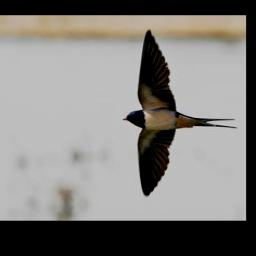Swallow: (121, 26, 238, 201)
